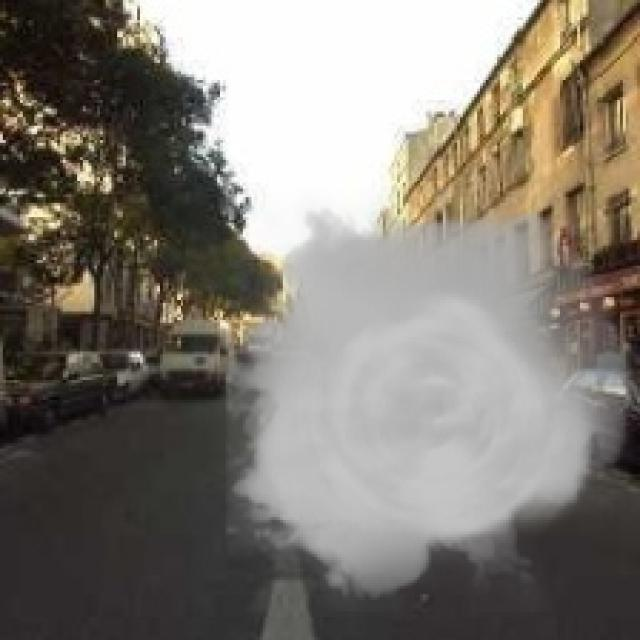smoke: (226, 188, 634, 612)
